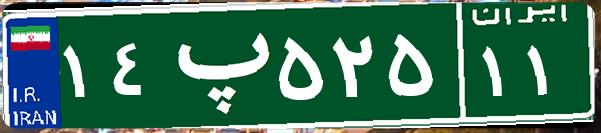1: (57, 26, 110, 107), (475, 38, 525, 113), (525, 38, 570, 115)
2: (330, 28, 385, 110)
4: (110, 28, 158, 105)
5: (385, 28, 445, 110), (273, 28, 330, 110)
پ: (158, 15, 273, 115)
